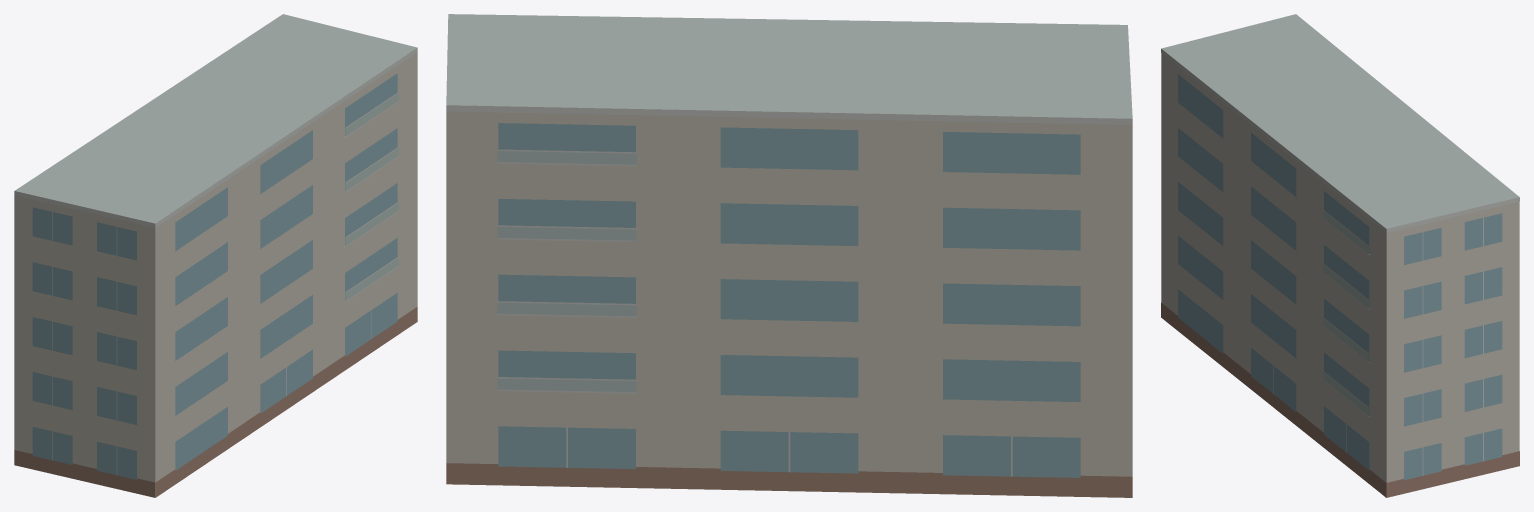
Rendered from survey-upis-32719414.glb.
The picture shows the model from 3 angles, left to right: view 1: azimuth 30°, elevation 25°; view 2: azimuth 150°, elevation 25°; view 3: azimuth 270°, elevation 25°; orthographic projection. The views are drawn at different scales.
Visible parts, largest first — view 1: survey-upis-32719414.tmp; view 2: survey-upis-32719414.tmp; view 3: survey-upis-32719414.tmp.
Part boxes in pixels (x1,y1,x2,y2): survey-upis-32719414.tmp: (14, 14, 417, 497); survey-upis-32719414.tmp: (446, 14, 1132, 497); survey-upis-32719414.tmp: (1161, 14, 1519, 497).
Size of the model in its own units: 25.88 by 15.1 by 18.25.
